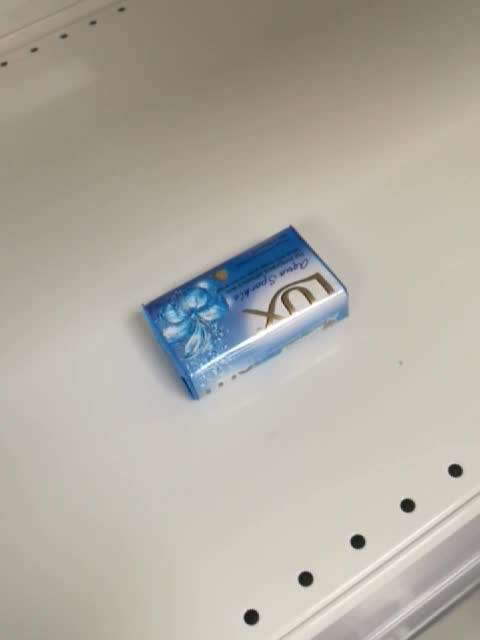soap: (139, 223, 351, 402)
